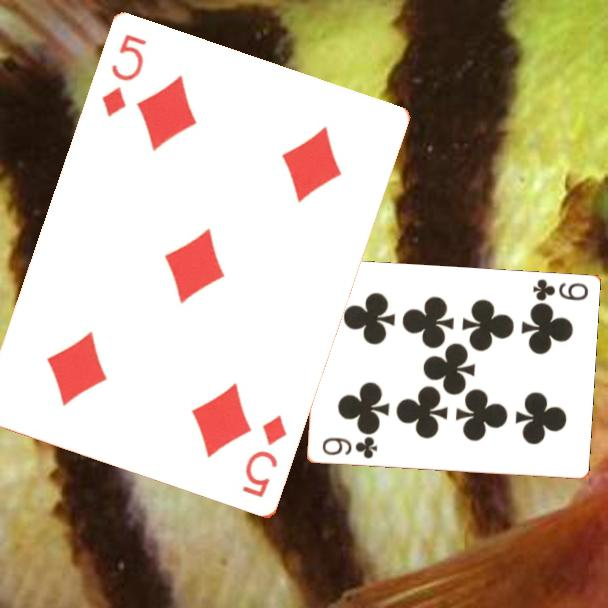c09: (318, 434, 380, 462), (529, 276, 591, 304)
d05: (98, 31, 150, 121), (239, 412, 290, 501)
